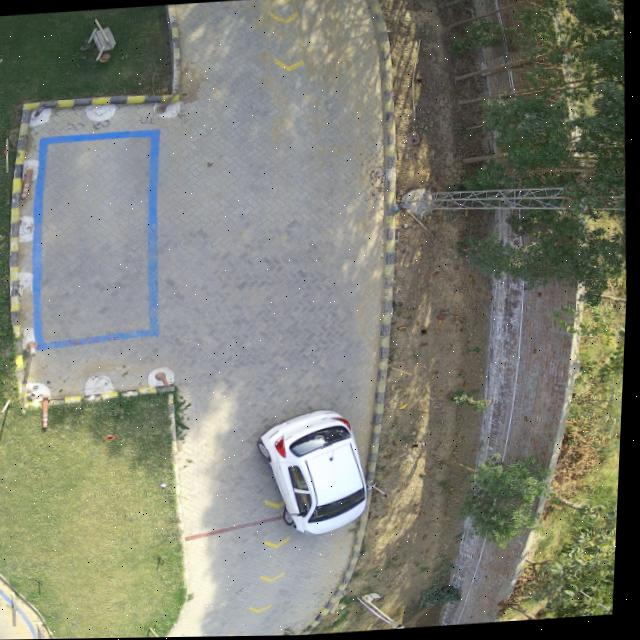car: (261, 411, 371, 536)
